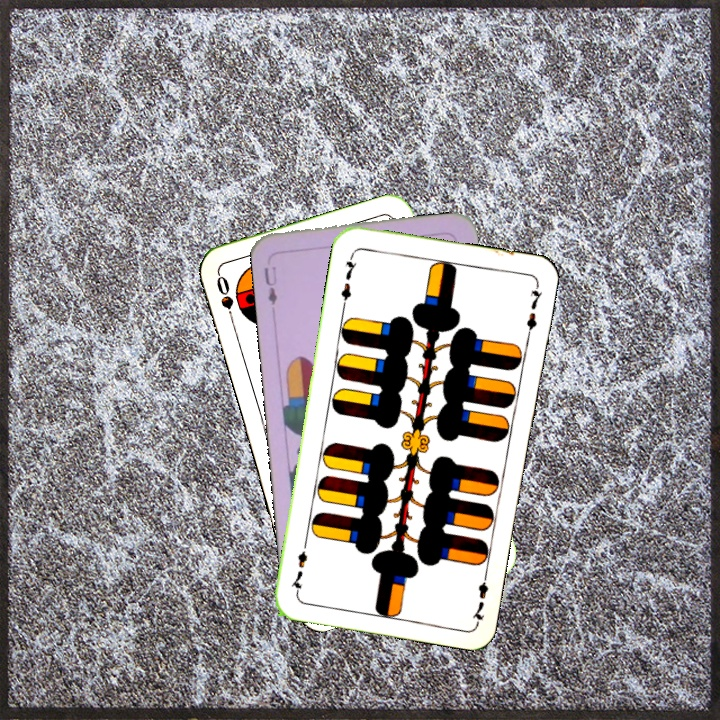E7: (337, 249, 360, 308), (468, 566, 491, 625)
EU: (260, 263, 280, 313)
SO: (212, 271, 238, 329)
